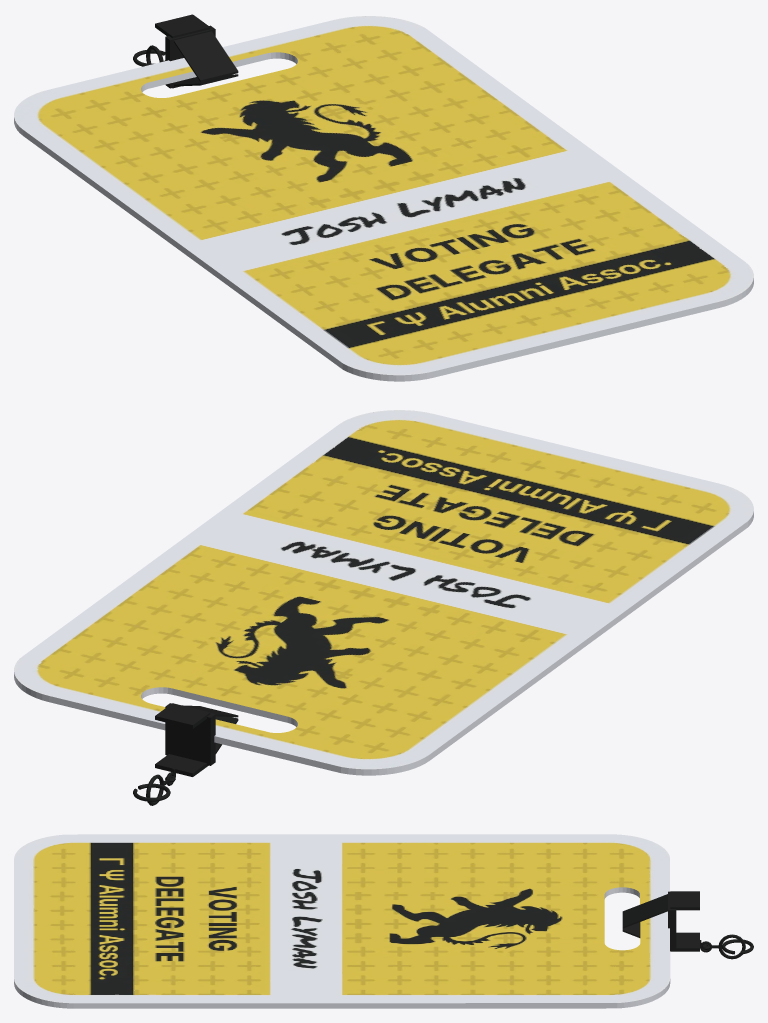
The model's file is card3.glb.
3 views of the same model, one above another, from view 1: azimuth 30°, elevation 25°; view 2: azimuth 150°, elevation 25°; view 3: azimuth 270°, elevation 25° (orthographic). The views are drawn at different scales.
Visible parts, largest first — view 1: card, clip; view 2: card, clip; view 3: card, clip.
Part boxes in pixels (x1,y1,x2,y2): card: (14, 16, 753, 381); clip: (133, 14, 238, 88); card: (14, 410, 753, 775); clip: (133, 703, 238, 805); card: (14, 834, 670, 1008); clip: (622, 891, 753, 959).
Size of the model in its own units: 3.35 by 0.5549 by 6.2.
Materials: 4 (2 with a texture image).
